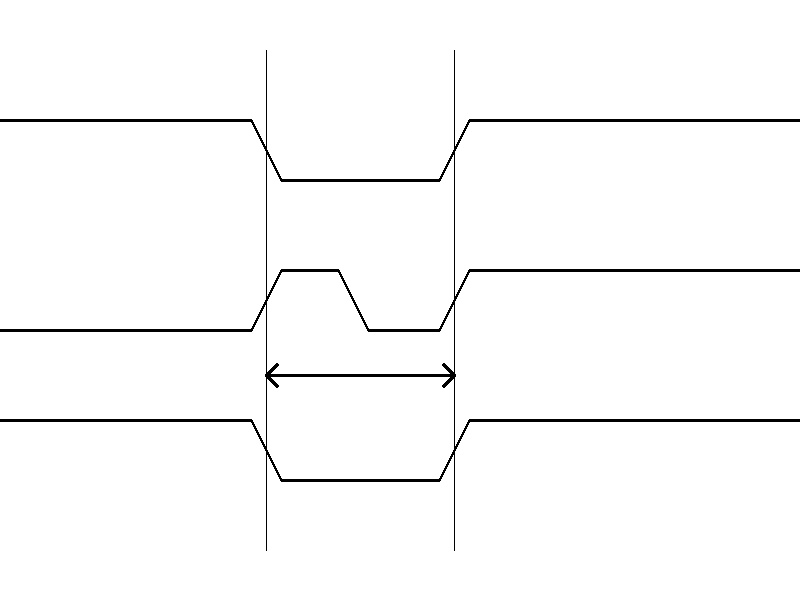double_arrow: (266, 360, 454, 390)
